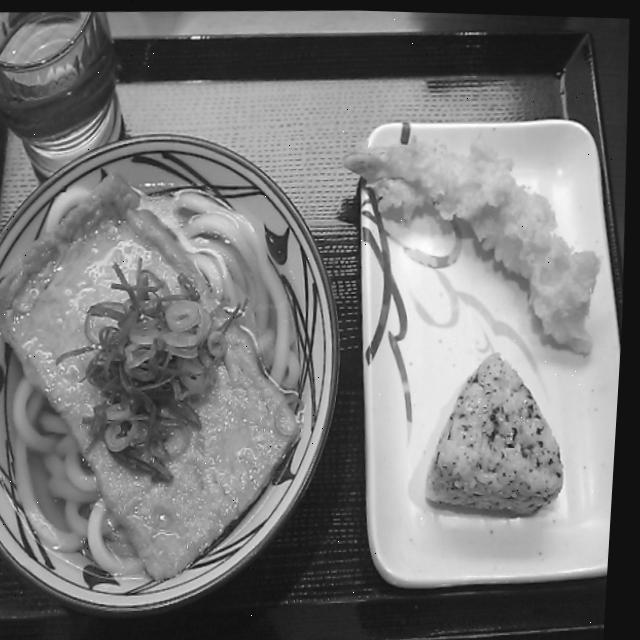米饭主食: (408, 326, 584, 527)
